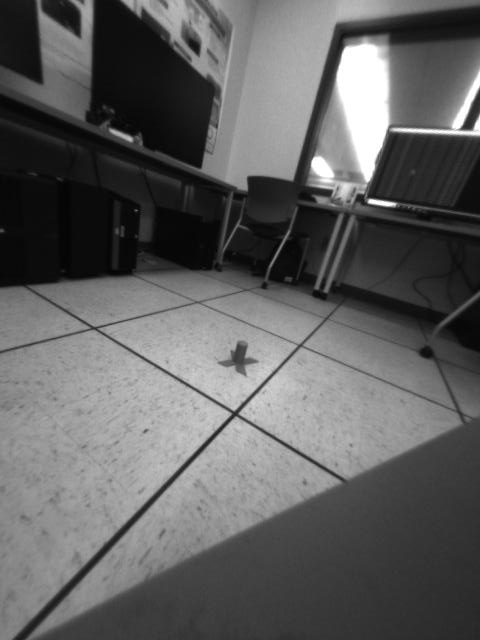X: (217, 340, 260, 377)
